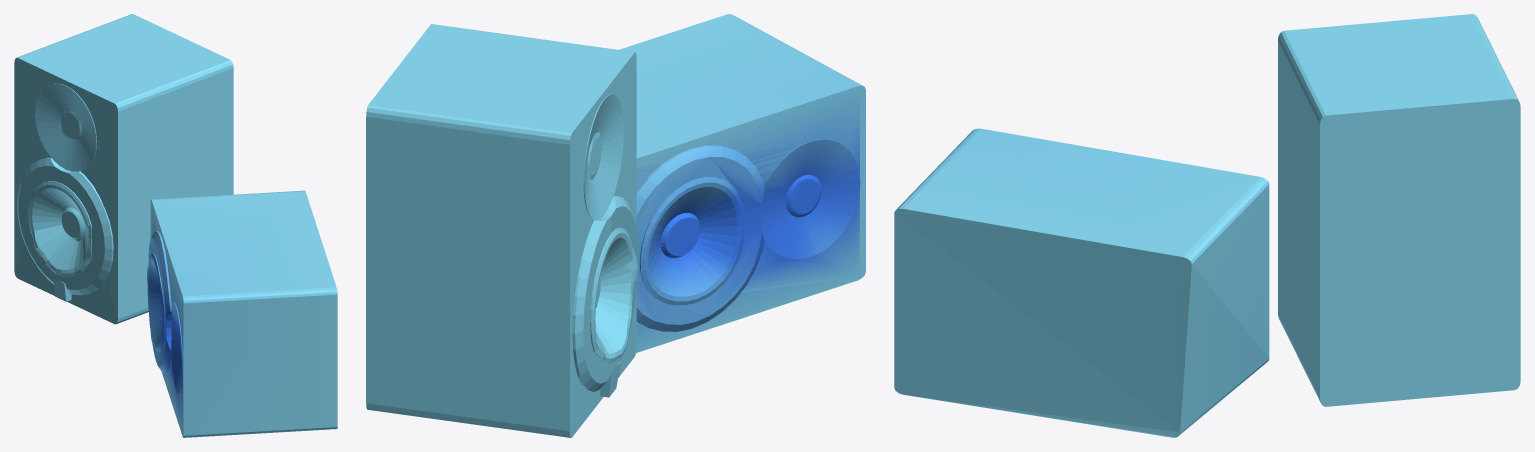
File: speakers.glb
3 renders of one model, left to right at view 1: azimuth 30°, elevation 25°; view 2: azimuth 150°, elevation 25°; view 3: azimuth 270°, elevation 25°, orthographic. The views are drawn at different scales.
Parts seen in each view (by area): view 1: Cube, Cube.001; view 2: Cube, Cube.001; view 3: Cube.001, Cube.
Part boxes in pixels (x1,y1,x2,y2): Cube: (14, 14, 233, 324); Cube.001: (147, 190, 337, 437); Cube: (366, 24, 639, 437); Cube.001: (619, 14, 865, 352); Cube.001: (894, 128, 1269, 437); Cube: (1278, 14, 1520, 406).
Bounding box in the file's own units: 3.04 × 3.38 × 6.11.
